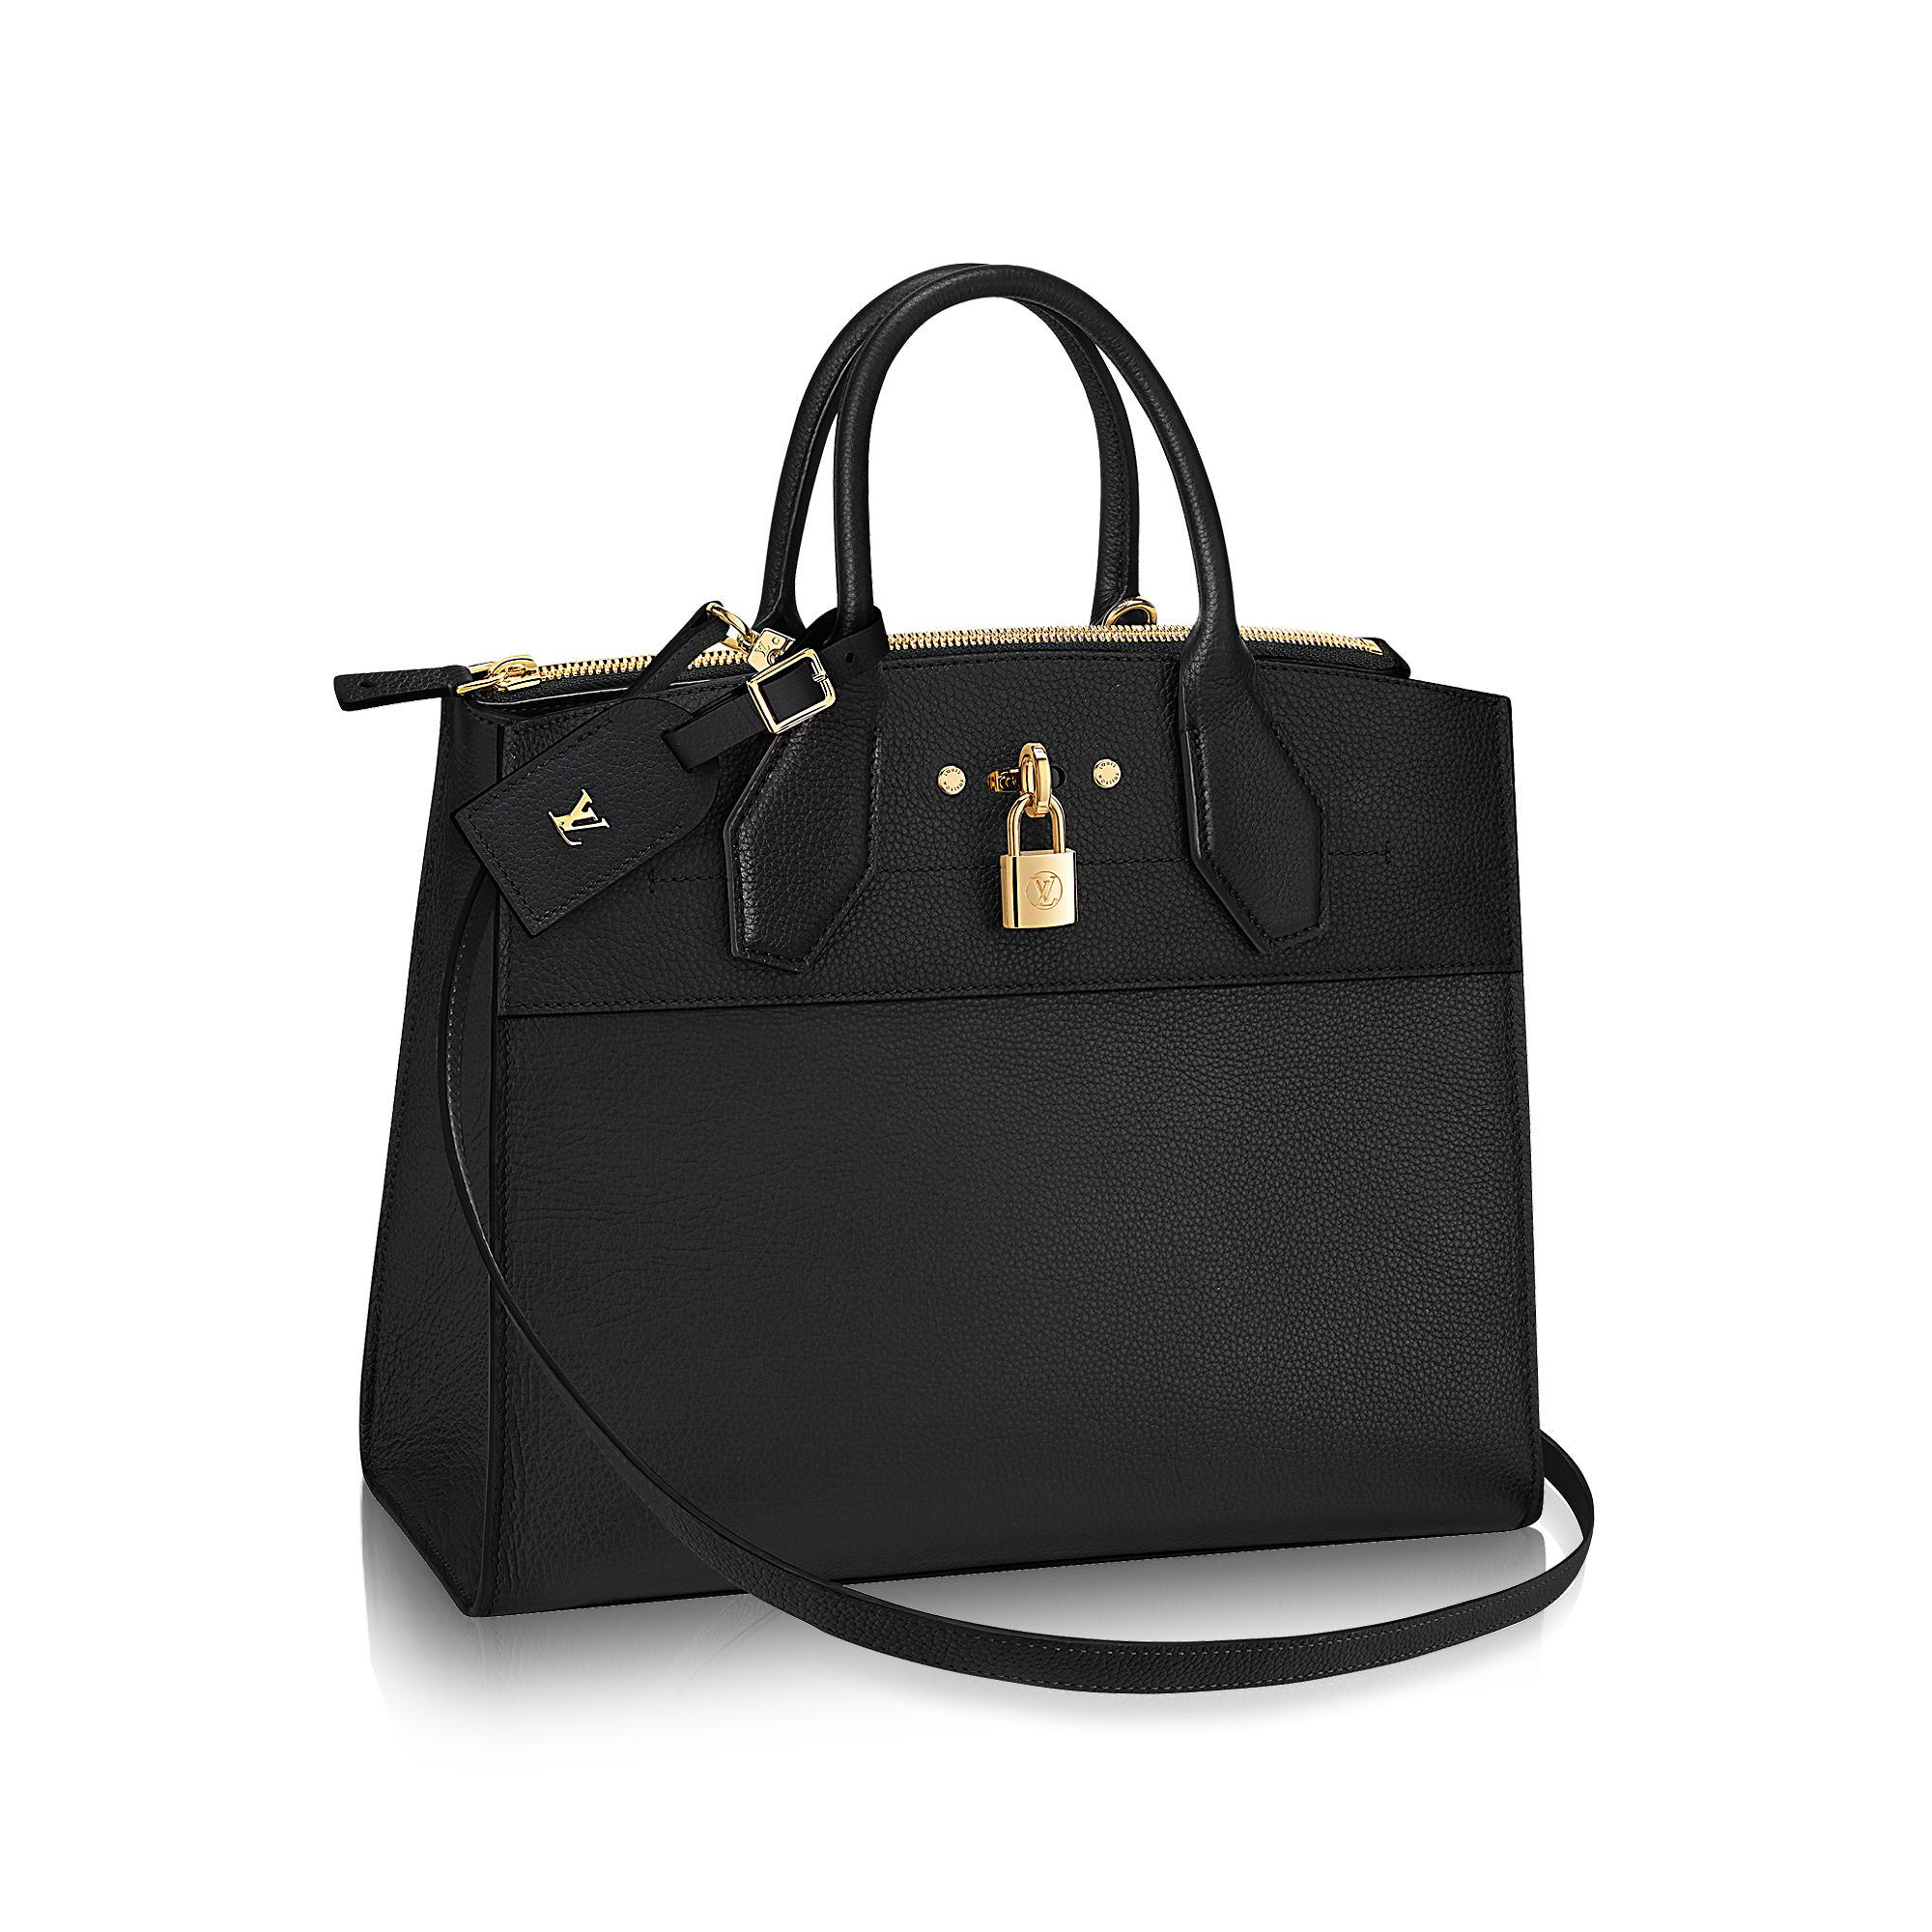LOUIS-VUITTON: (548, 789, 612, 847), (1024, 869, 1065, 915)
